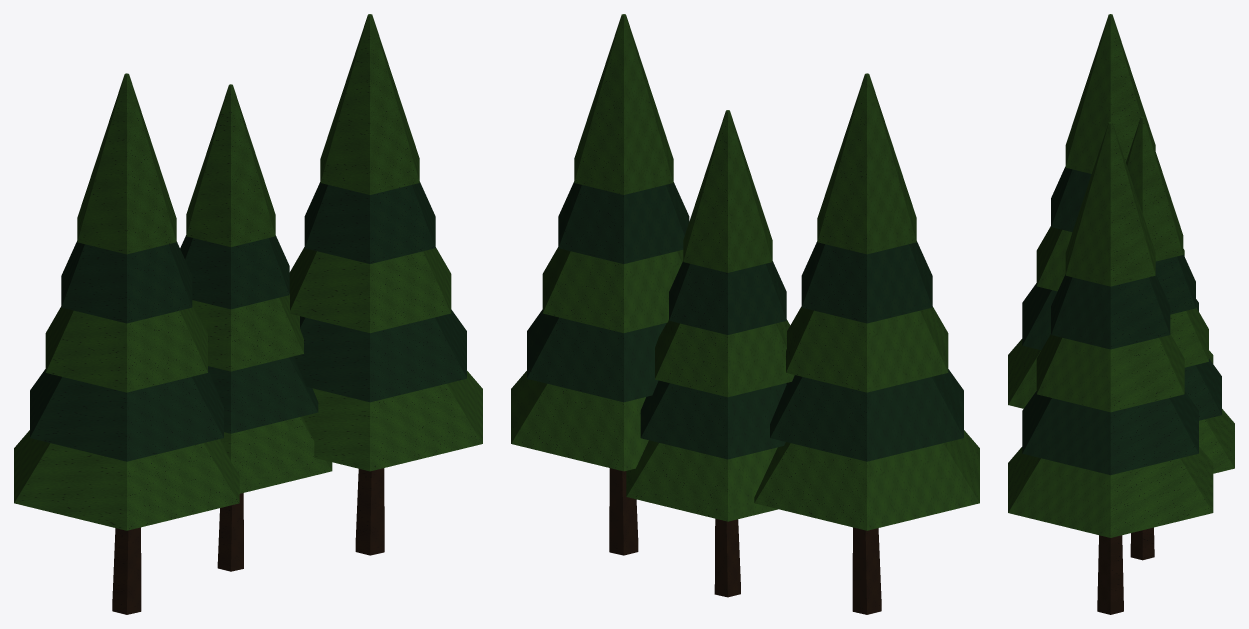
File: PROP-F9037A353B38_lod2.glb
3 renders of one model, left to right at view 1: azimuth 30°, elevation 25°; view 2: azimuth 150°, elevation 25°; view 3: azimuth 270°, elevation 25°, orthographic. The views are drawn at different scales.
Visible parts, largest first — view 1: layered_conifer_crown.006, layered_conifer_crown.007, trunk.003; view 2: layered_conifer_crown.006, layered_conifer_crown.007, trunk.003; view 3: layered_conifer_crown.006, layered_conifer_crown.007, trunk.003.
Boxes of the visible parts, x1=… form: layered_conifer_crown.006: x1=14, y1=14, x2=482, y2=530; layered_conifer_crown.007: x1=30, y1=181, x2=466, y2=461; trunk.003: x1=112, y1=468, x2=384, y2=614; layered_conifer_crown.006: x1=511, y1=14, x2=979, y2=530; layered_conifer_crown.007: x1=527, y1=181, x2=963, y2=461; trunk.003: x1=609, y1=468, x2=881, y2=614; layered_conifer_crown.006: x1=1008, y1=14, x2=1234, y2=537; layered_conifer_crown.007: x1=1022, y1=166, x2=1221, y2=475; trunk.003: x1=1097, y1=527, x2=1154, y2=614.
Bounding box in the file's own units: 7.71 × 8.39 × 3.55.
3 materials, 3 textured.
